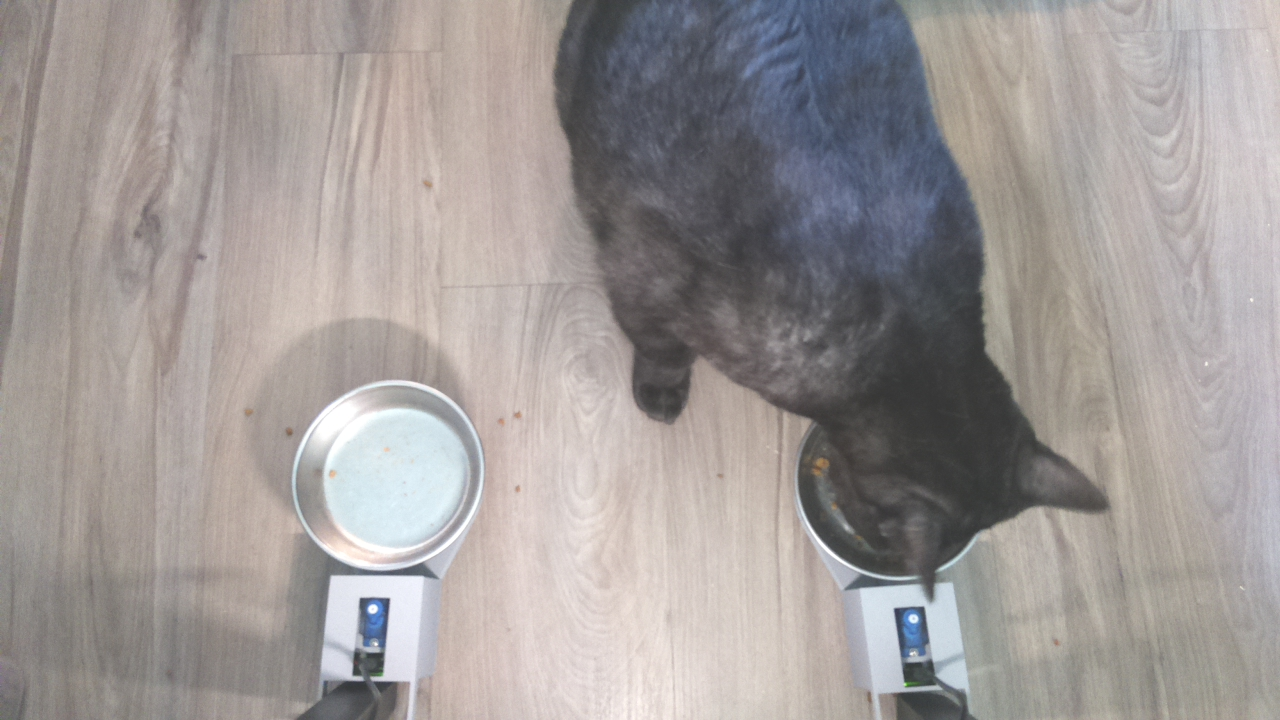open_bowl: (284, 379, 490, 576)
saki_eating: (762, 349, 1132, 611)
